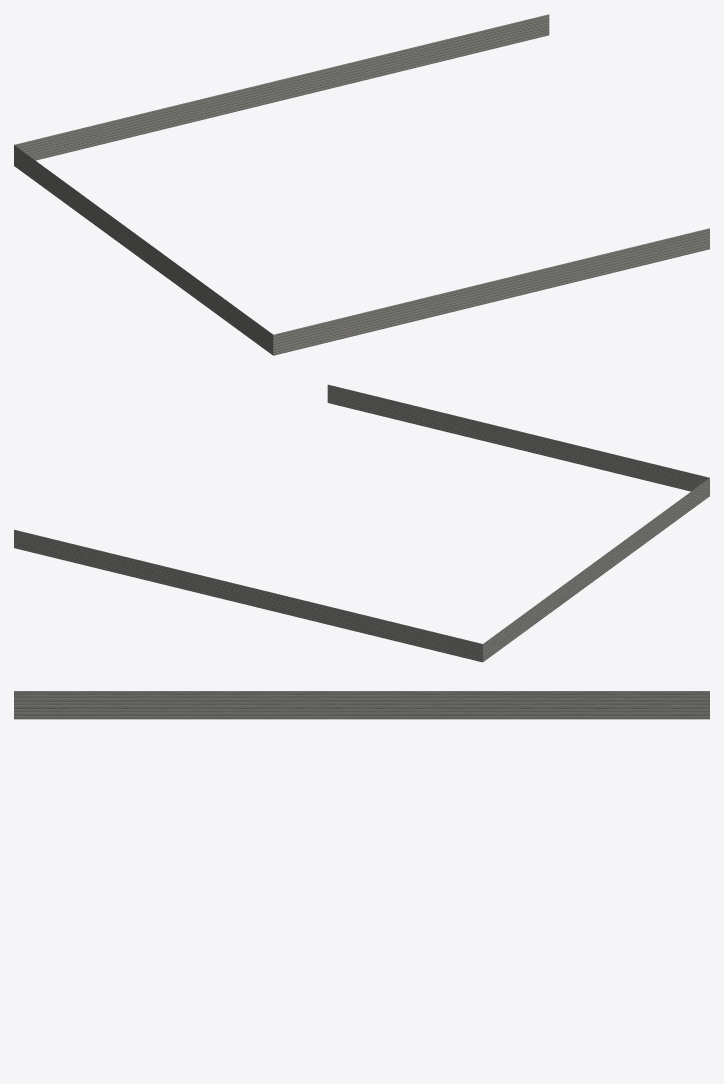
The model's file is PETRONAS AREA WALL.fbx.
3 views of the same model, one above another, from view 1: azimuth 30°, elevation 25°; view 2: azimuth 150°, elevation 25°; view 3: azimuth 270°, elevation 25° (orthographic). The views are drawn at different scales.
Parts seen in each view (by area): view 1: WALL; view 2: WALL; view 3: WALL.
Part boxes in pixels (<box>): WALL: <box>14,14,709,355</box>; WALL: <box>14,384,709,662</box>; WALL: <box>14,691,709,719</box>.
Size of the model in its own units: 7333 by 276 by 6152.
1 material, 1 textured.
